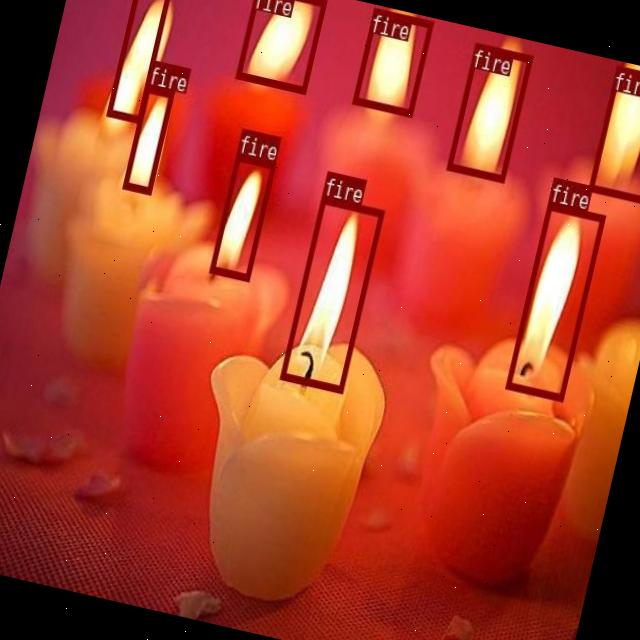fire: (278, 195, 384, 392), (505, 202, 605, 400), (446, 40, 532, 180), (352, 7, 433, 115), (208, 152, 274, 280), (234, 0, 325, 92), (105, 0, 171, 122), (587, 65, 640, 202), (122, 84, 173, 192)
